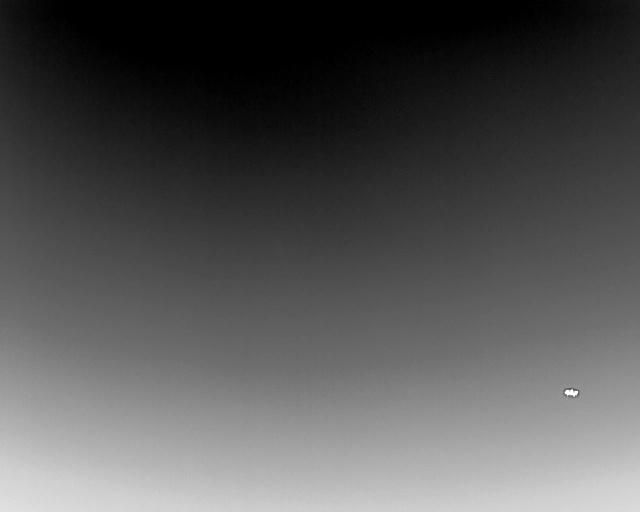fpv-drone: (563, 387, 579, 398)
